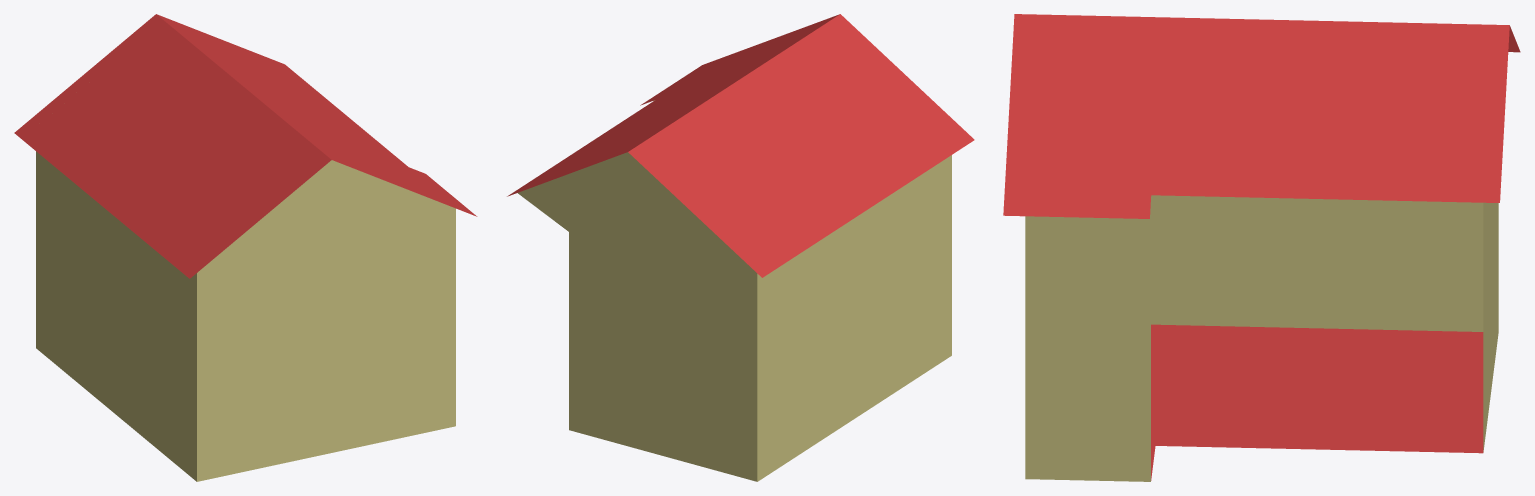
3 renders of one model, left to right at view 1: azimuth 30°, elevation 25°; view 2: azimuth 150°, elevation 25°; view 3: azimuth 270°, elevation 25°, orthographic. The views are drawn at different scales.
Size of the model in its own units: 10.06 by 12.37 by 10.15.
